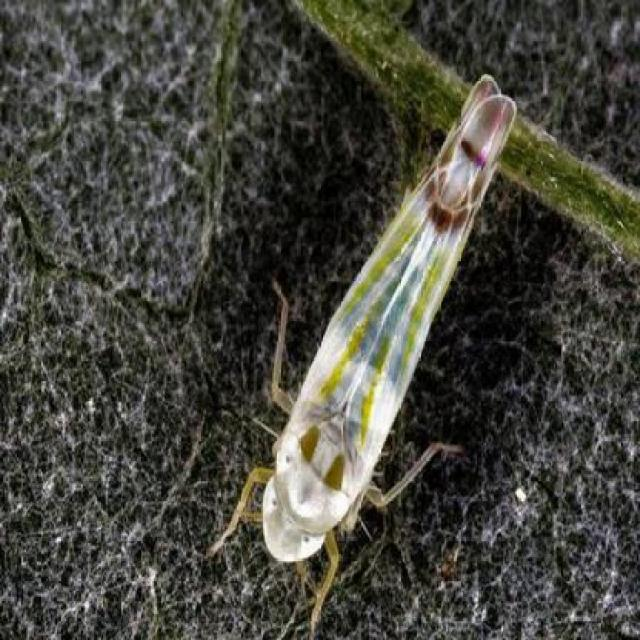green-leafhopper: (202, 70, 514, 636)
